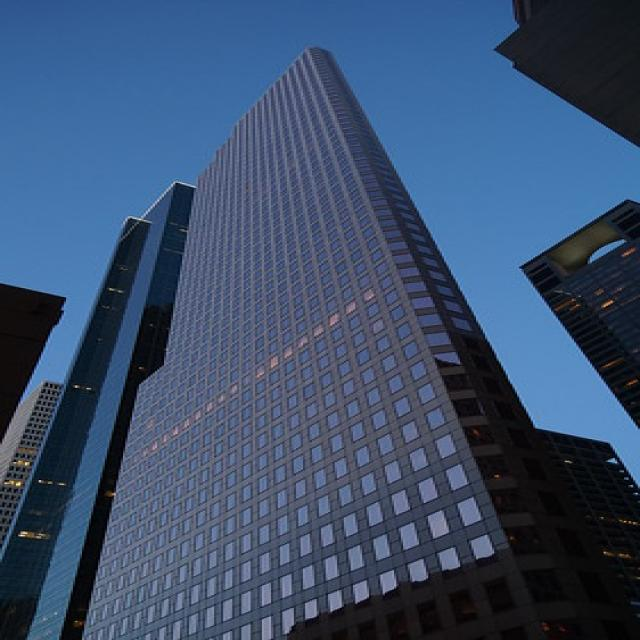building: (27, 48, 639, 640)
